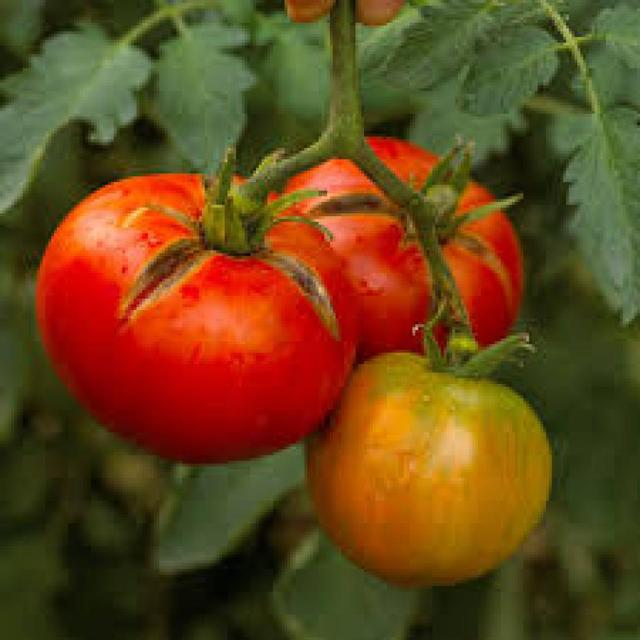Spotted wilt Virus Fruit: (99, 122, 307, 466)
